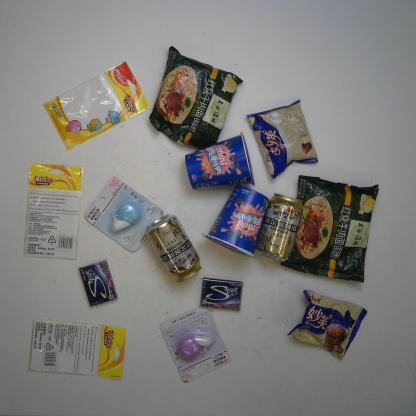Alcohol: (142, 210, 203, 285), (252, 189, 306, 265)
Dessert: (285, 289, 368, 362), (246, 98, 318, 180), (202, 180, 273, 259), (179, 132, 262, 194)
Gum: (78, 259, 118, 307), (200, 277, 243, 311)
Instant Noodles: (280, 169, 381, 287), (147, 45, 244, 151)
Stationery: (43, 60, 154, 154), (22, 160, 92, 263), (80, 177, 168, 254), (27, 317, 128, 382), (158, 307, 232, 383)
